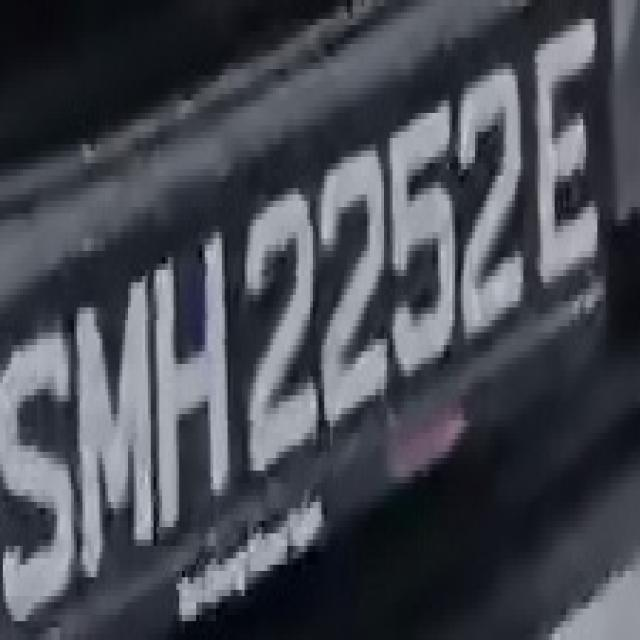2: (307, 119, 390, 446), (236, 182, 324, 489), (449, 57, 529, 345)
5: (387, 106, 458, 402)
E: (532, 25, 597, 339)
H: (159, 238, 236, 540)
M: (68, 276, 154, 571)
S: (8, 314, 77, 634)
